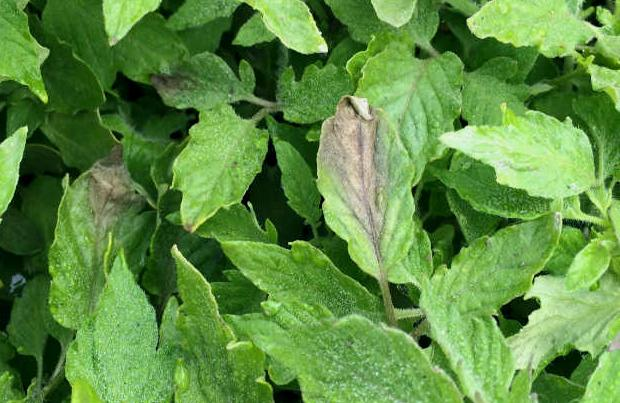Tomato mold leaf: (297, 97, 443, 287), (148, 240, 282, 403), (42, 144, 151, 342), (228, 315, 468, 403), (396, 288, 560, 403), (403, 209, 565, 318), (420, 121, 599, 195), (89, 246, 169, 403), (174, 106, 278, 225)
